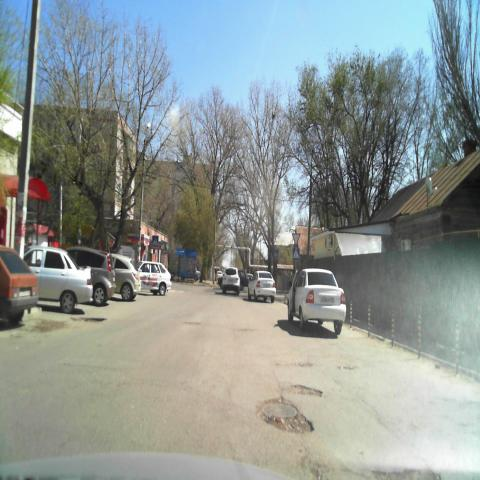2_4: (292, 232, 301, 247)
5_19_1: (292, 247, 300, 260), (152, 235, 158, 248), (274, 248, 280, 258)
